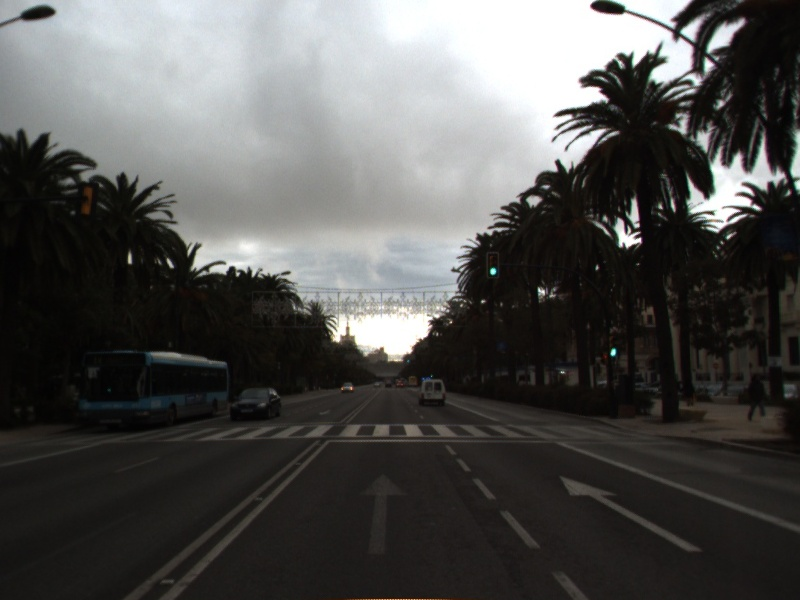STRAIGHT: (557, 474, 707, 555), (355, 470, 414, 558)
